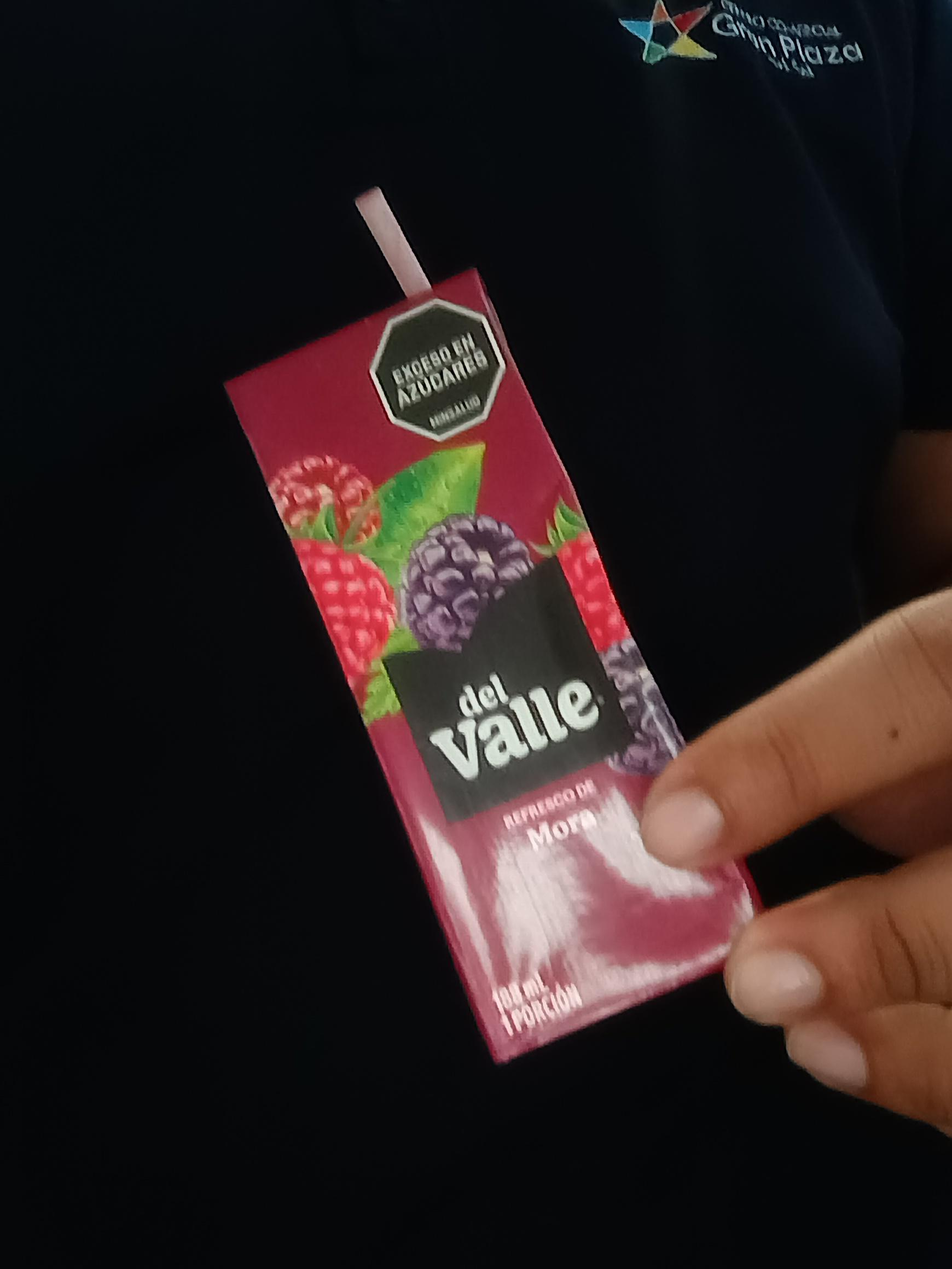Carton: (221, 267, 765, 1065)
